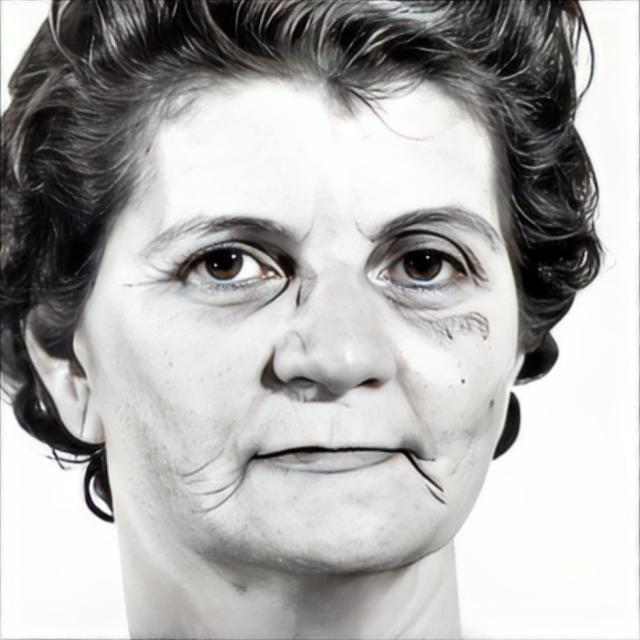neutral: (91, 69, 524, 574)
